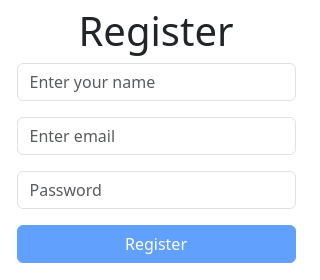
Test: RegistrationForm › should disable register button if email or password is missing
This screenshot has width=320, height=280.
Expected: the button "Register" is disabled, [16,225,296,263]
In the field with placeholder "Enter your name": x=156, y=82 [16,63,296,101], type "Test User"
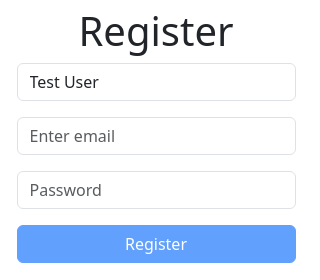
In the field with placeholder "Enter email": x=156, y=136 [16,117,296,155], type "test@example.com"
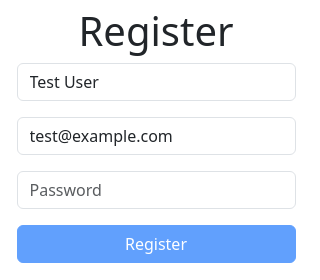
Expected: the button "Register" is disabled, [16,225,296,263]
In the password field with placeholder "Password": x=156, y=190 [16,171,296,209], type "password"
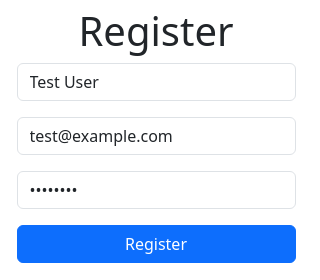
Expected: the button "Register" is enabled, [16,225,296,263]
